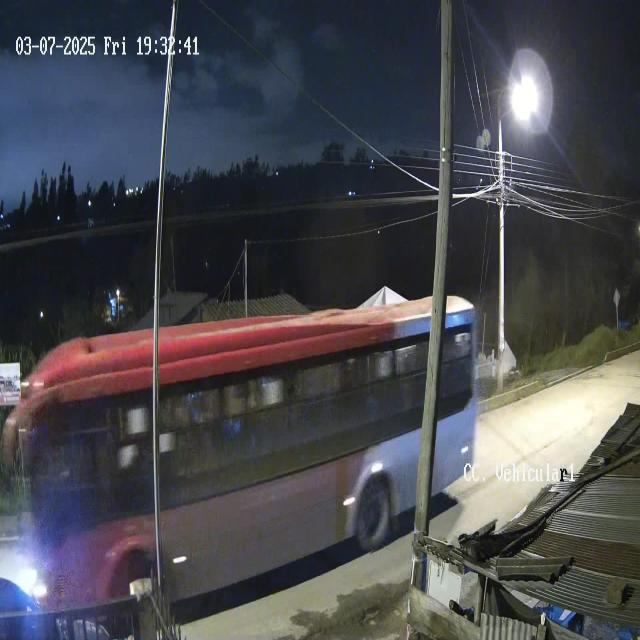BUS: (6, 294, 479, 626)
